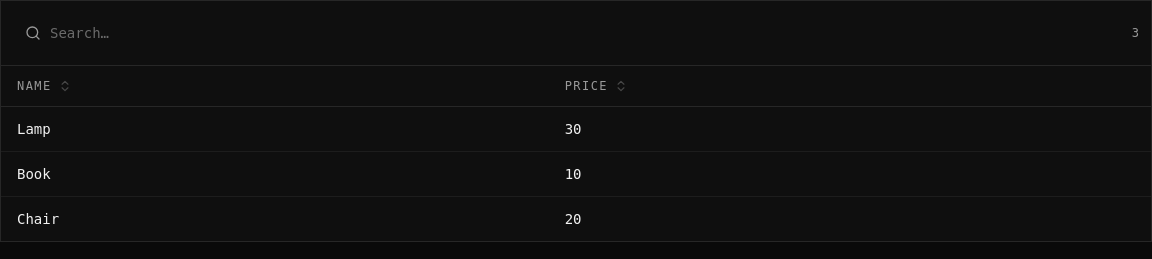
searches and sorts
Click the button "Price" at (596, 86), box [565,78,628,94]
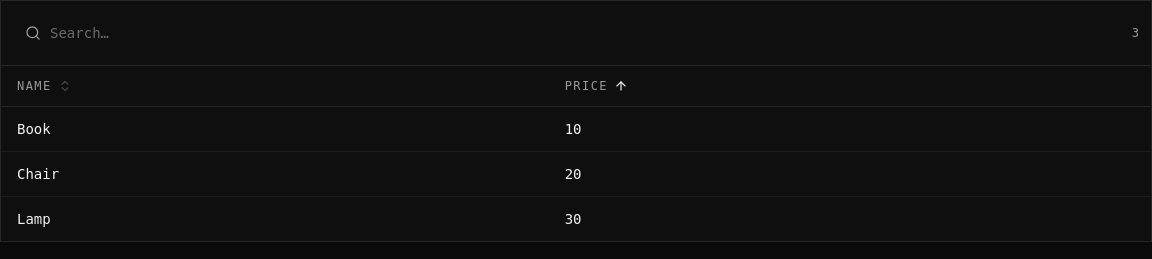
Type "ch" into the search field at (566, 33), box [13,13,1120,53]
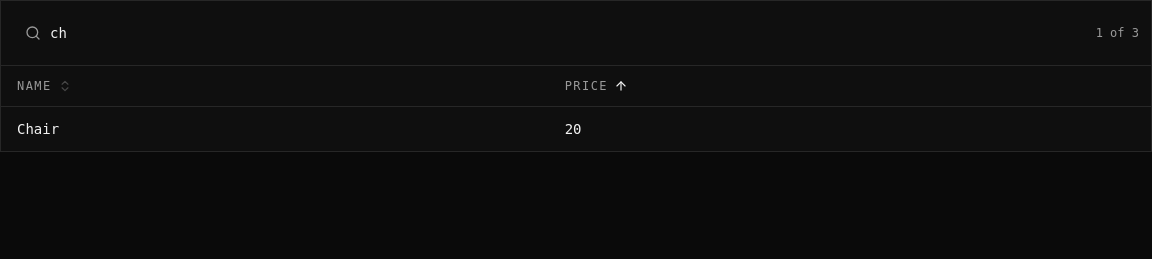
Check: the text "1 of 3" is shown, box [1096,25,1139,41]
Replace the text in the search field with "zzz" at (548, 33), box [13,13,1084,53]
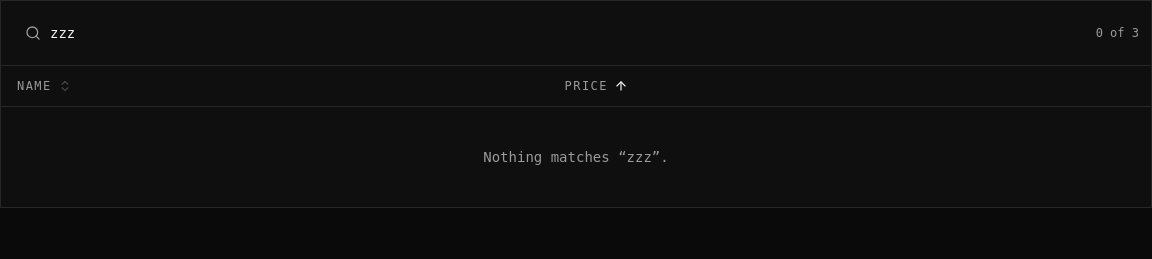
Check: the text "Nothing matches “zzz”." is shown, box [1,106,1151,206]
